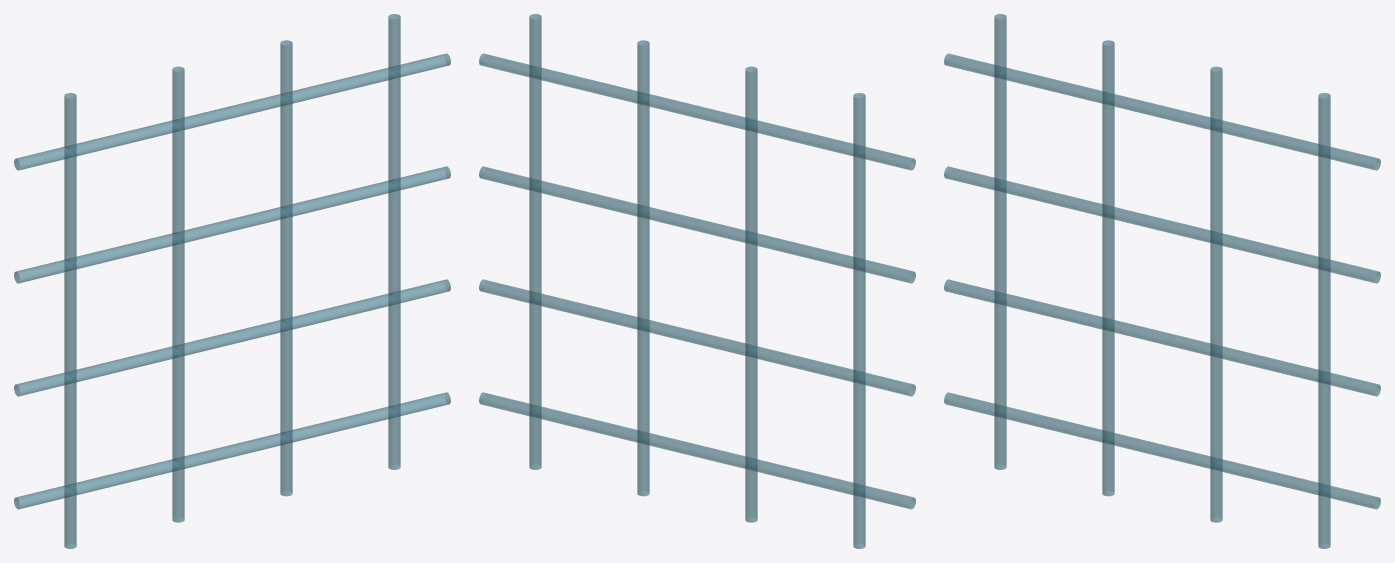
Rendered from IronBars.fbx.
The picture shows the model from 3 angles, left to right: view 1: azimuth 30°, elevation 25°; view 2: azimuth 150°, elevation 25°; view 3: azimuth 330°, elevation 25°; orthographic projection.
Parts seen in each view (by area): view 1: IronBars; view 2: IronBars; view 3: IronBars.
Boxes of the visible parts, box(x1,y1,x2,y2) form: IronBars: box(14, 14, 450, 548); IronBars: box(479, 14, 915, 548); IronBars: box(944, 14, 1380, 548).
Size of the model in its own units: 399 by 399 by 10.
